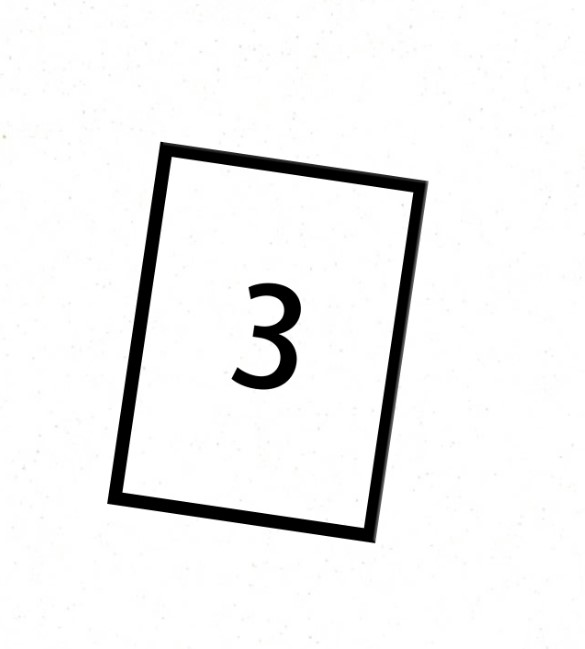three: (211, 215, 343, 451)
